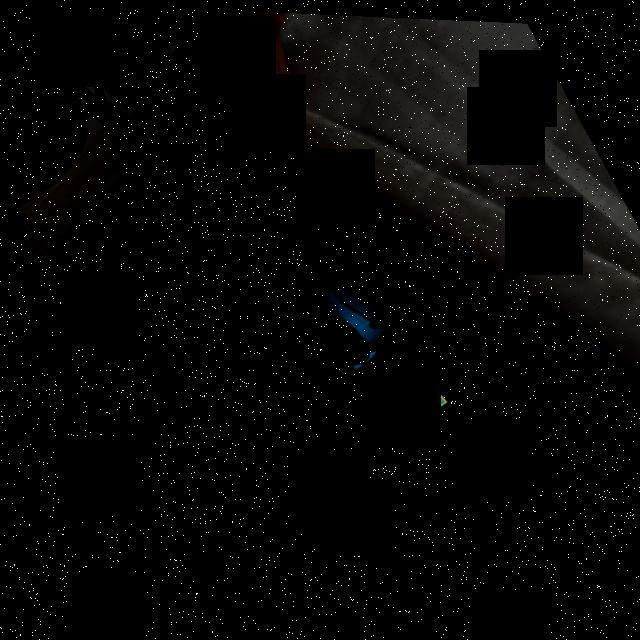Marker: (363, 359, 443, 430)
